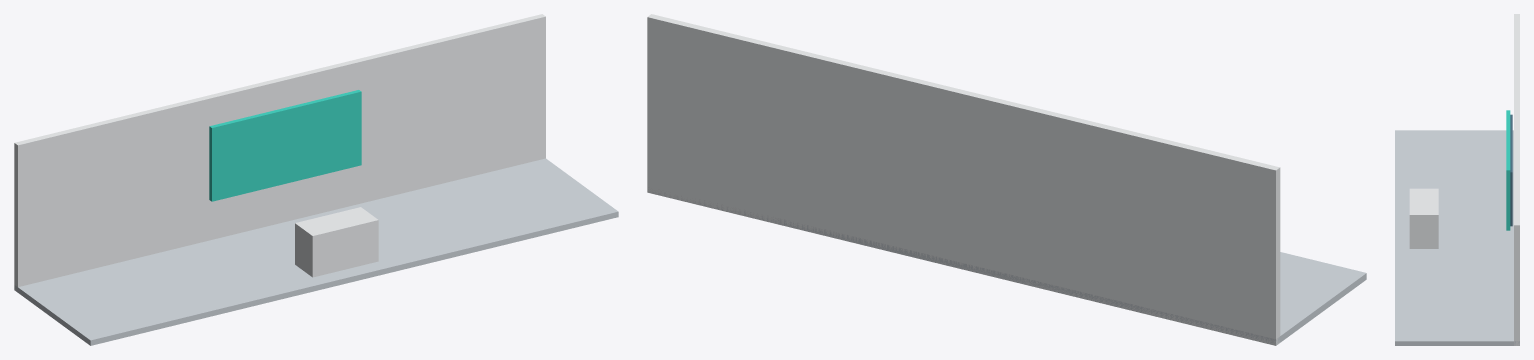
3 renders of one model, left to right at view 1: azimuth 30°, elevation 25°; view 2: azimuth 150°, elevation 25°; view 3: azimuth 270°, elevation 25°, orthographic. The views are drawn at different scales.
Visible parts, largest first — view 1: Exhibition Booth Concept; view 2: Exhibition Booth Concept; view 3: Exhibition Booth Concept.
Part boxes in pixels (left/top/right/bottom): Exhibition Booth Concept: left=14, top=14, right=618, bottom=345; Exhibition Booth Concept: left=647, top=14, right=1366, bottom=345; Exhibition Booth Concept: left=1395, top=14, right=1519, bottom=345.
Bounding box in the file's own units: 12 × 3.2 × 3.
